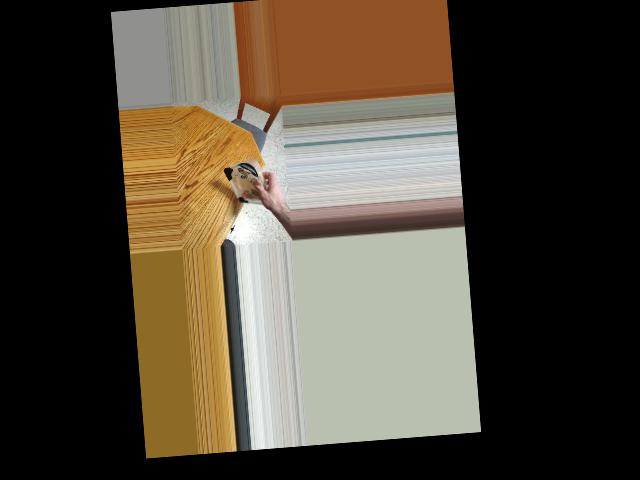cheese: (226, 160, 265, 212)
